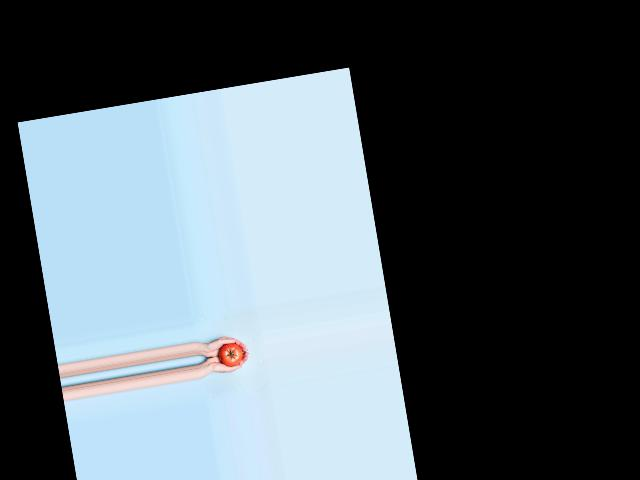tomato: (217, 340, 244, 367)
